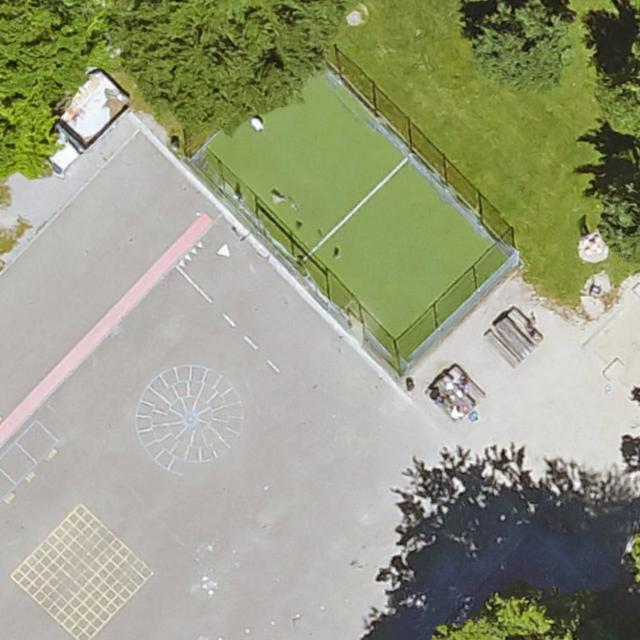tree: (127, 0, 347, 119), (416, 586, 602, 640), (0, 0, 91, 87), (474, 0, 566, 86), (0, 98, 63, 182), (610, 19, 640, 145), (602, 177, 640, 264), (631, 533, 640, 581)
